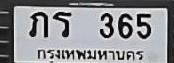3: (99, 12, 113, 37)
5: (136, 12, 150, 38)
6: (117, 12, 132, 38)
A32: (28, 11, 48, 37)
A35: (52, 11, 71, 37)
BKK: (35, 45, 144, 62)
